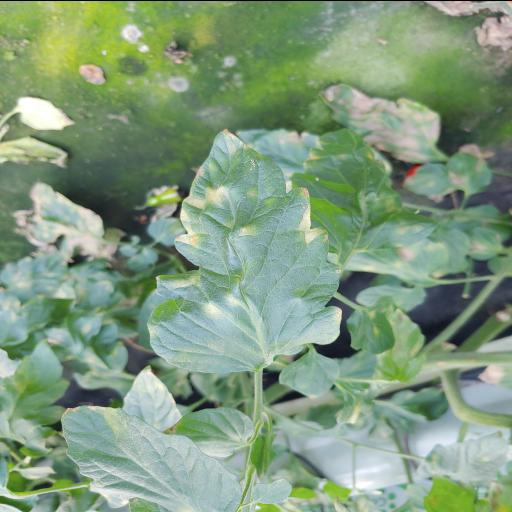Leaf Mold: (147, 128, 343, 373), (60, 403, 241, 512)
